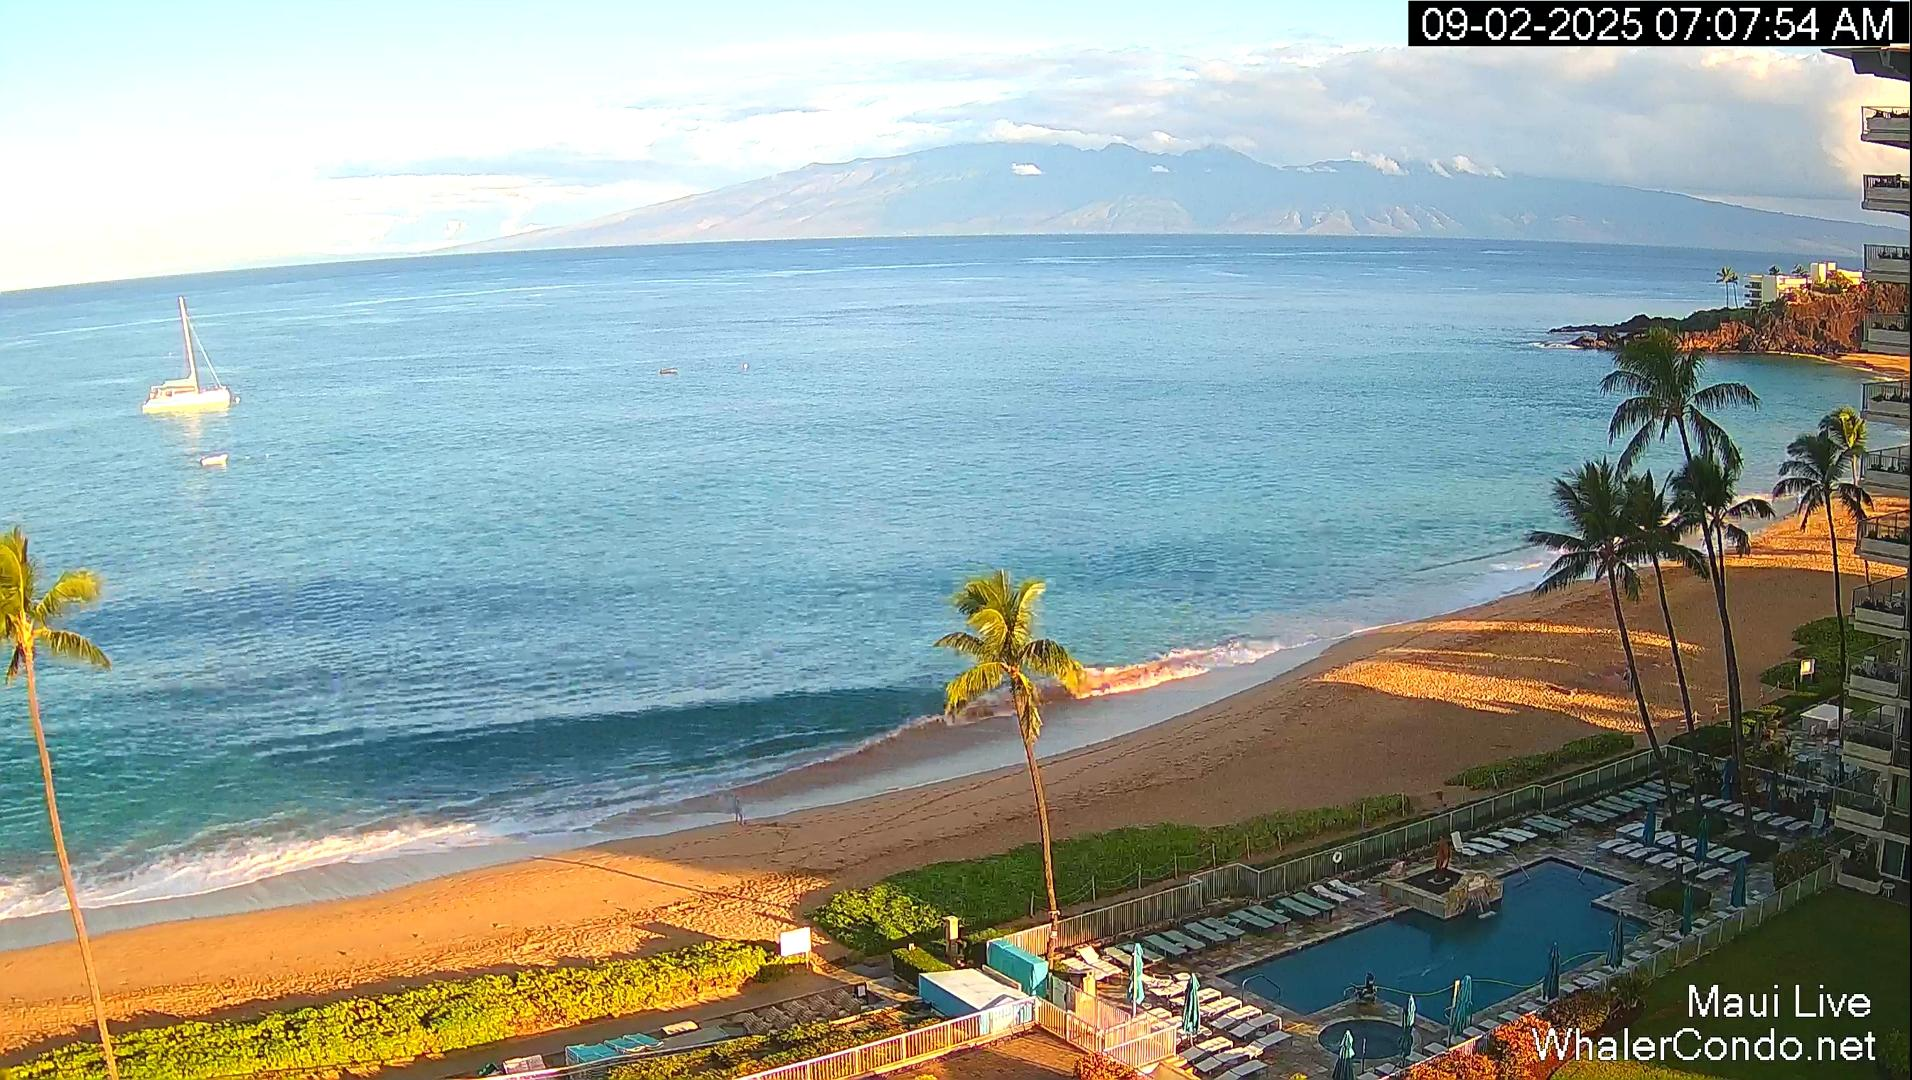boat: (141, 296, 235, 415), (198, 452, 230, 470), (660, 366, 680, 378)
person: (1387, 858, 1412, 878), (730, 793, 745, 826), (1621, 662, 1633, 697)
